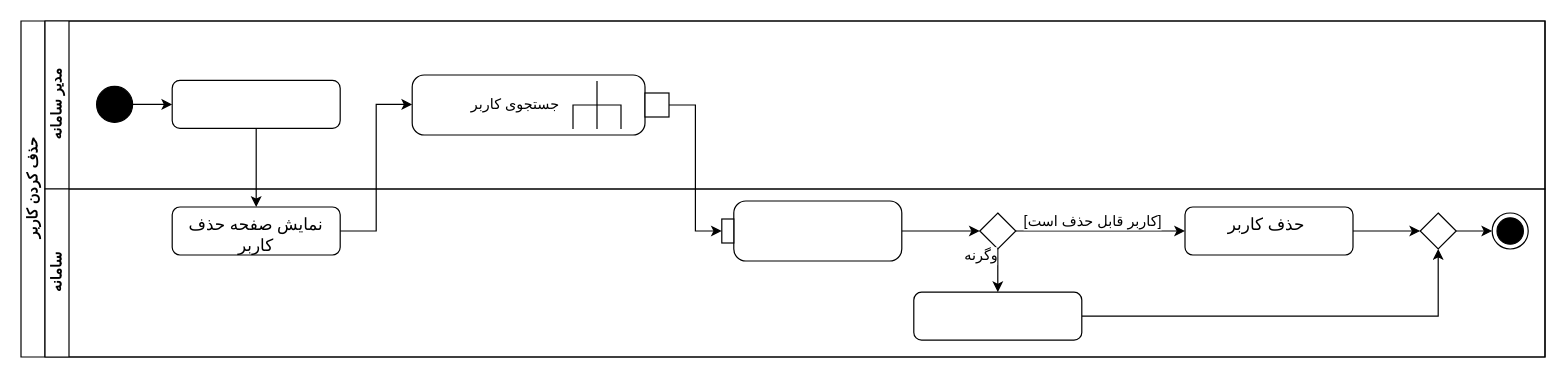
The diagram is 1566 pixels wide and 378 high, and some of its shapes have lost their labels. The centre of each missing label's shape, as x and y in pixels:
"بررسی اطلاعات" goes at point 811,230.
"درخواست حذف کاربر" goes at point 255,103.
"نمایش علت ناتوانی در حذف کاربر" goes at point 997,315.
